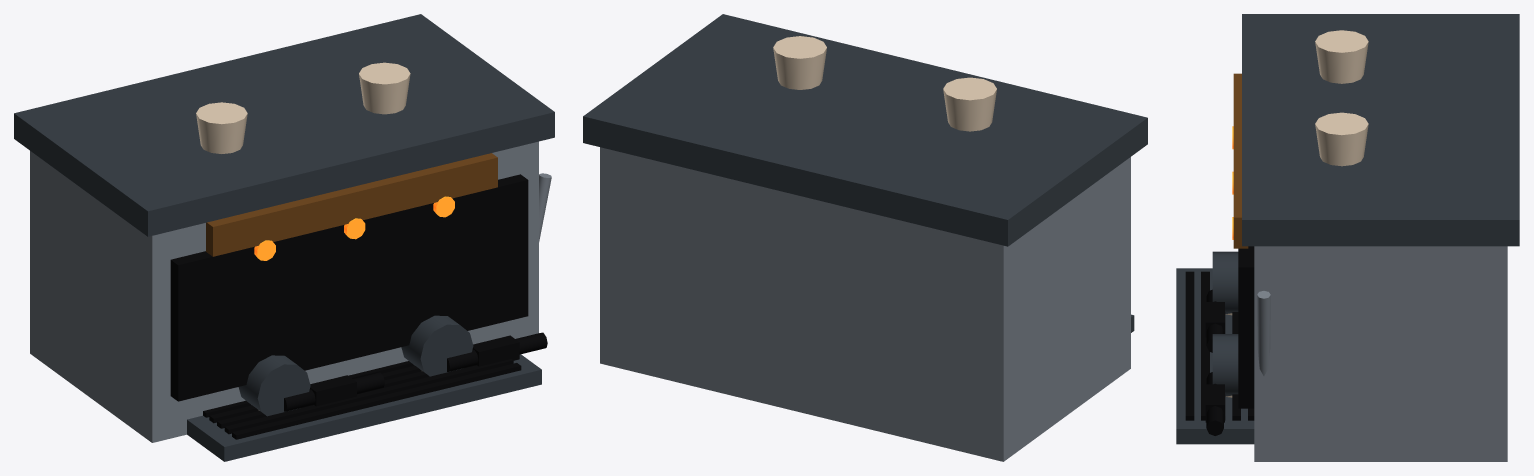
Rendered from espresso_machine.glb.
3 renders of one model, left to right at view 1: azimuth 30°, elevation 25°; view 2: azimuth 150°, elevation 25°; view 3: azimuth 270°, elevation 25°, orthographic. The views are drawn at different scales.
Visible parts, largest first — view 1: espresso_machine; view 2: espresso_machine; view 3: espresso_machine.
Boxes of the visible parts, box(x1,y1,x2,y2) form: espresso_machine: box(14, 14, 554, 461); espresso_machine: box(583, 14, 1147, 461); espresso_machine: box(1176, 14, 1519, 461).
Bounding box in the file's own units: 1.02 × 0.64 × 0.705.
